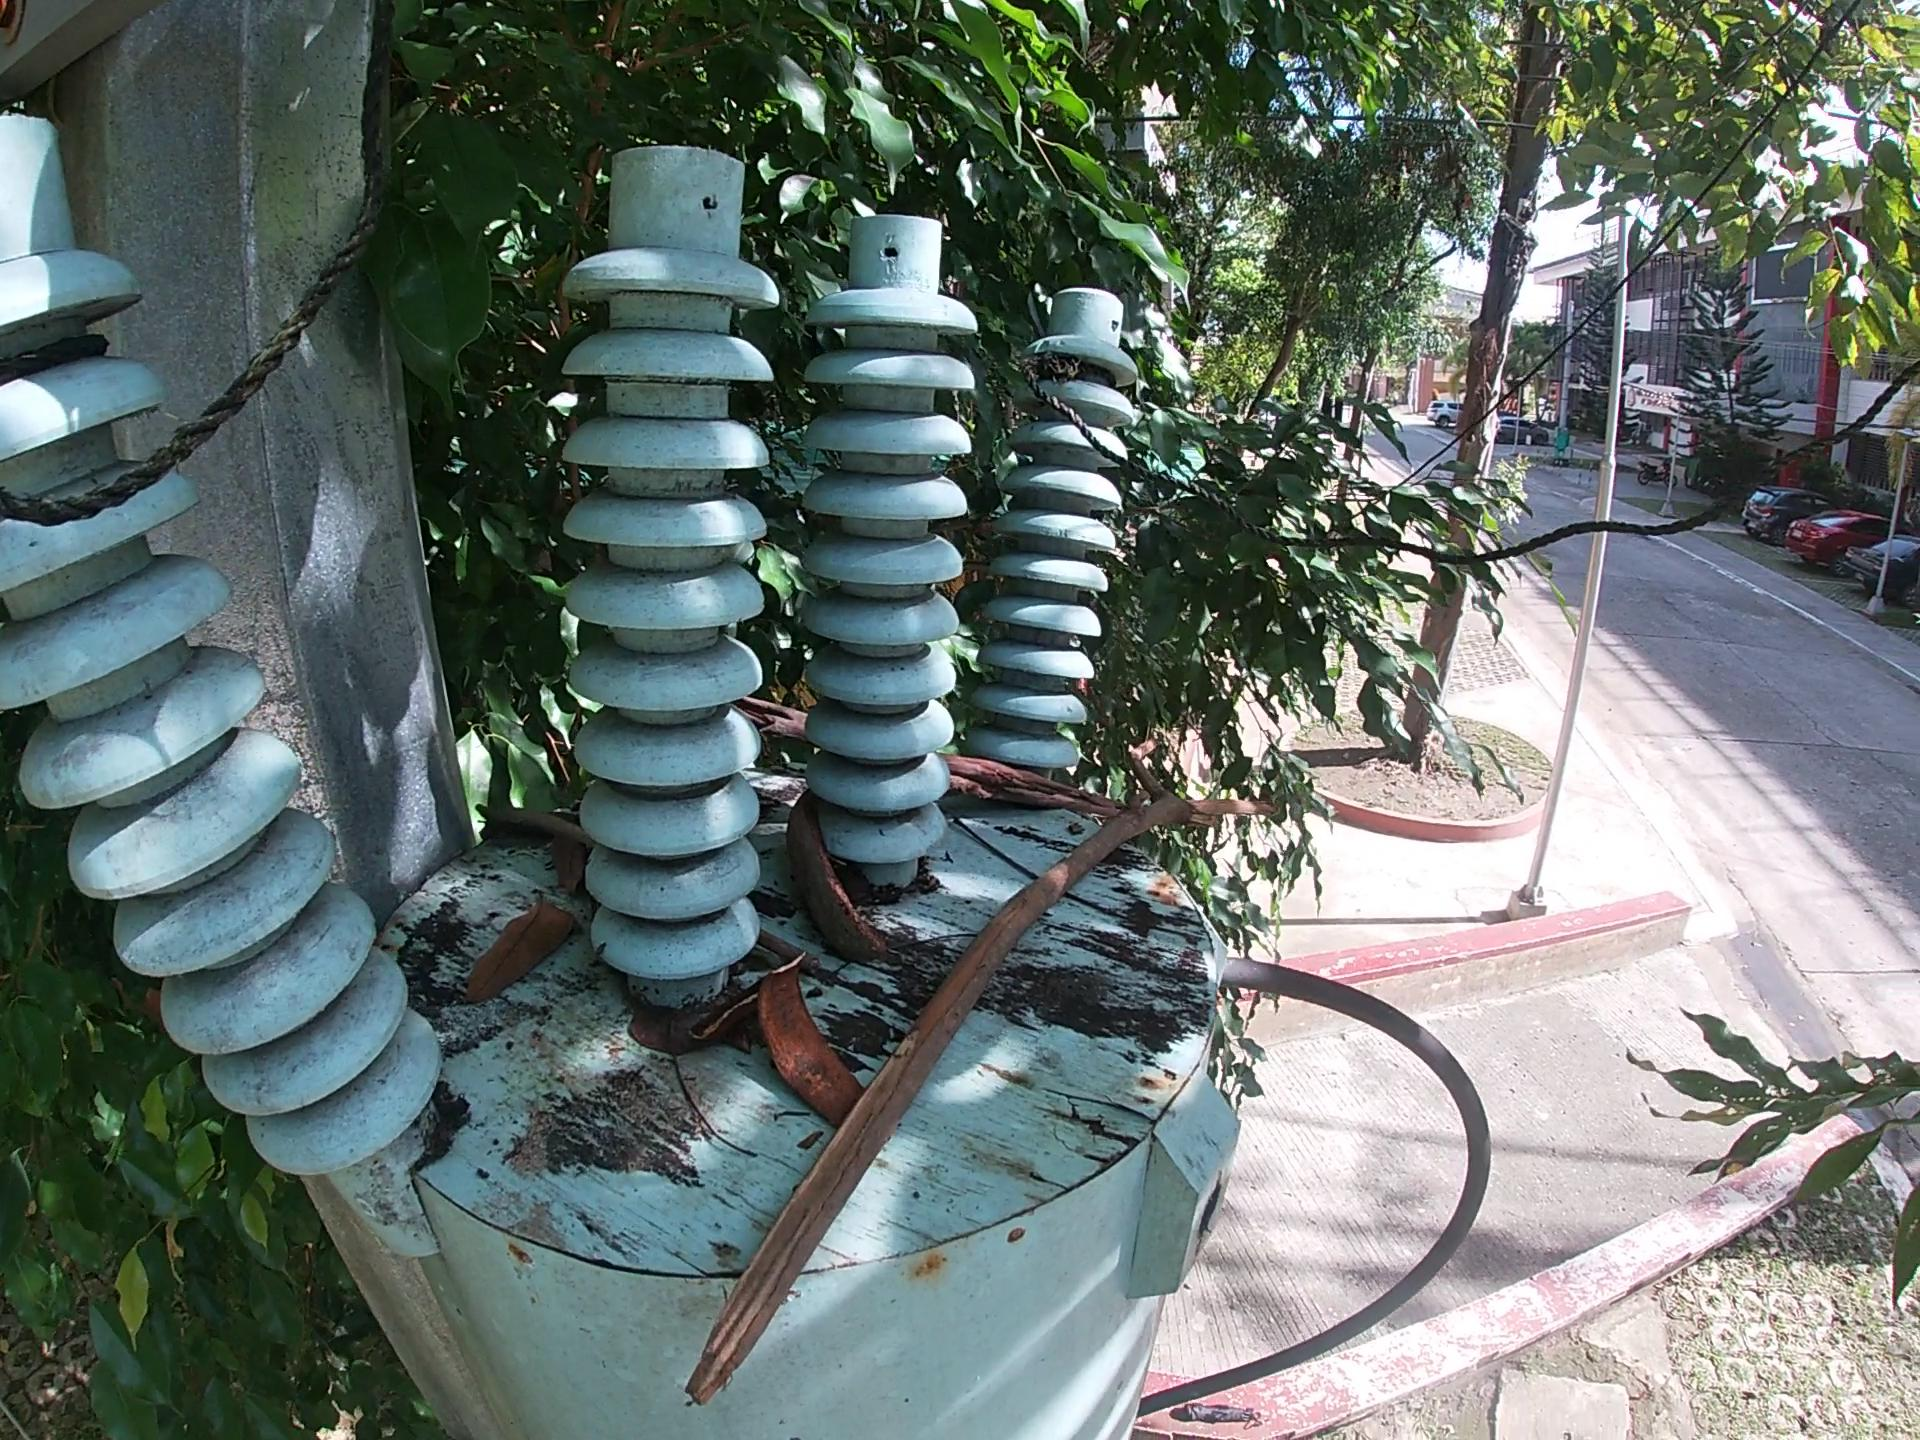leaf: (457, 882, 584, 1009), (620, 998, 709, 1057), (544, 827, 596, 897)
mahogany fruit: (751, 945, 863, 1131), (782, 790, 895, 968)
tree branch: (674, 731, 1291, 1414), (735, 693, 1135, 823), (467, 799, 597, 852), (759, 929, 822, 979)
